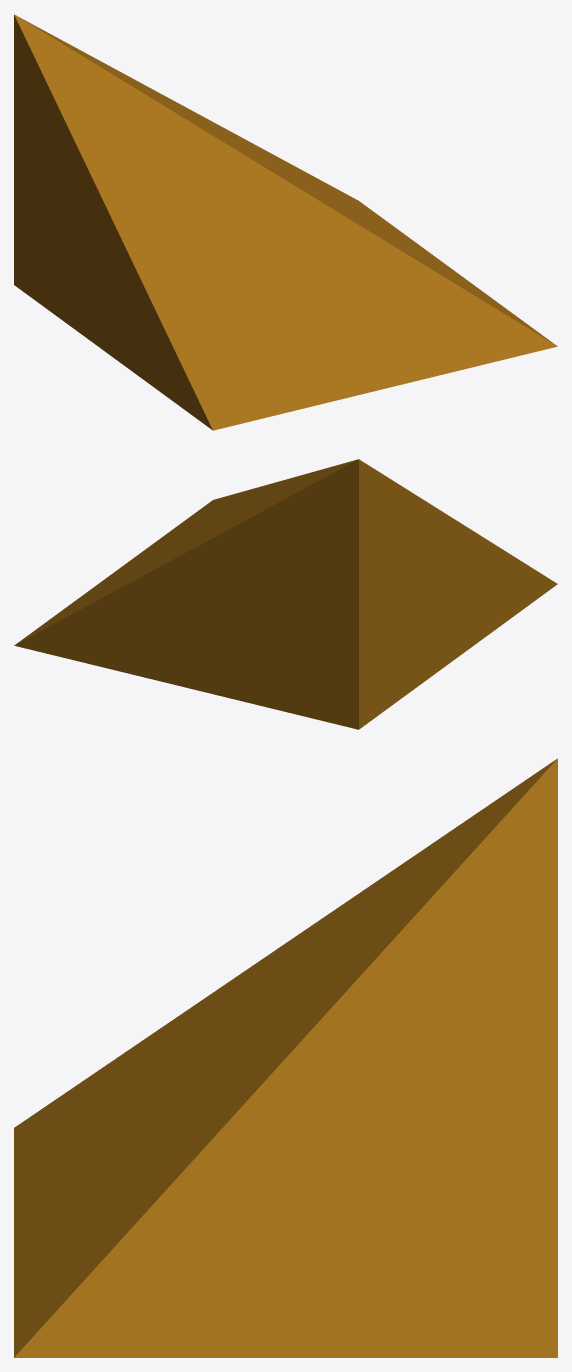
File: Roof-Steep-4x4x3-Corner-Convex.FBX
3 views of the same model, one above another, from view 1: azimuth 30°, elevation 25°; view 2: azimuth 150°, elevation 25°; view 3: azimuth 270°, elevation 25° (orthographic). The views are drawn at different scales.
Visible parts, largest first — view 1: Roof-Steep-4x4x3-Corner-Convex; view 2: Roof-Steep-4x4x3-Corner-Convex; view 3: Roof-Steep-4x4x3-Corner-Convex.
Part boxes in pixels (x1,y1,x2,y2): Roof-Steep-4x4x3-Corner-Convex: [14, 14, 557, 430]; Roof-Steep-4x4x3-Corner-Convex: [14, 459, 557, 729]; Roof-Steep-4x4x3-Corner-Convex: [14, 758, 557, 1357].
Size of the model in its own units: 40 by 40 by 30.
